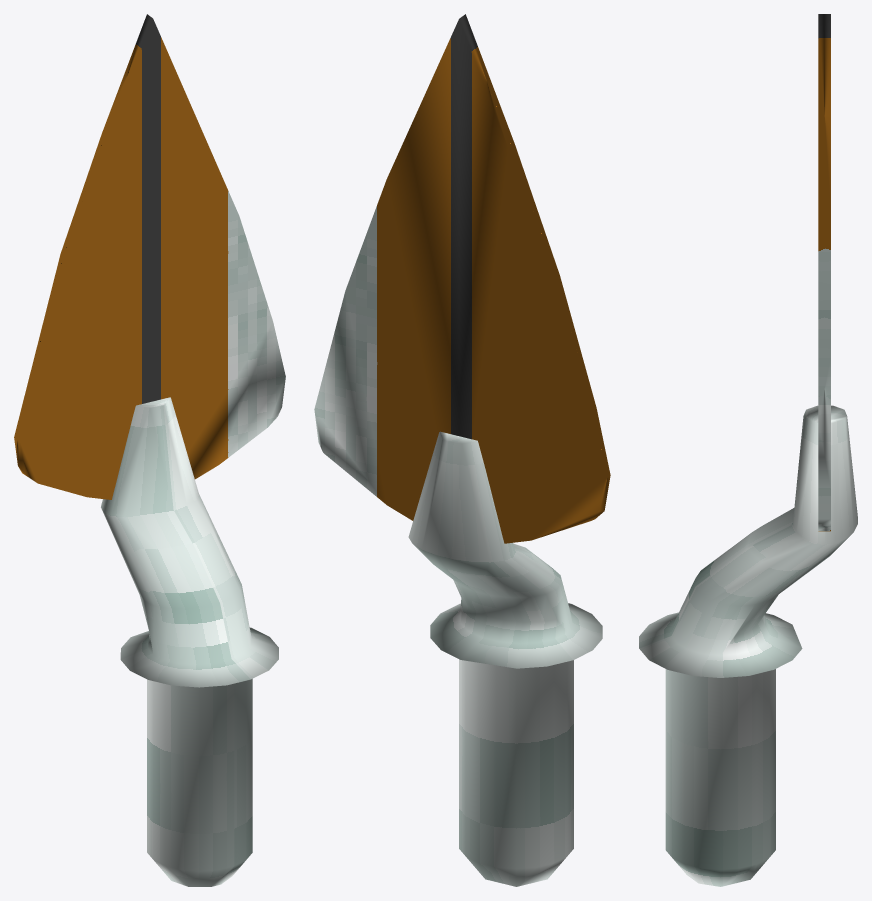
File: Trowel.obj
3 views of the same model, side by side, from view 1: azimuth 30°, elevation 25°; view 2: azimuth 150°, elevation 25°; view 3: azimuth 270°, elevation 25° (orthographic). The views are drawn at different scales.
Visible parts, largest first — view 1: Handle; view 2: Handle; view 3: Handle.
Part boxes in pixels (left/top/right/bottom): Handle: left=14, top=14, right=285, bottom=886; Handle: left=314, top=14, right=610, bottom=886; Handle: left=639, top=14, right=857, bottom=886.
Size of the model in its own units: 0.5152 by 1.52 by 0.3512.
Materials: 1 (1 with a texture image).
